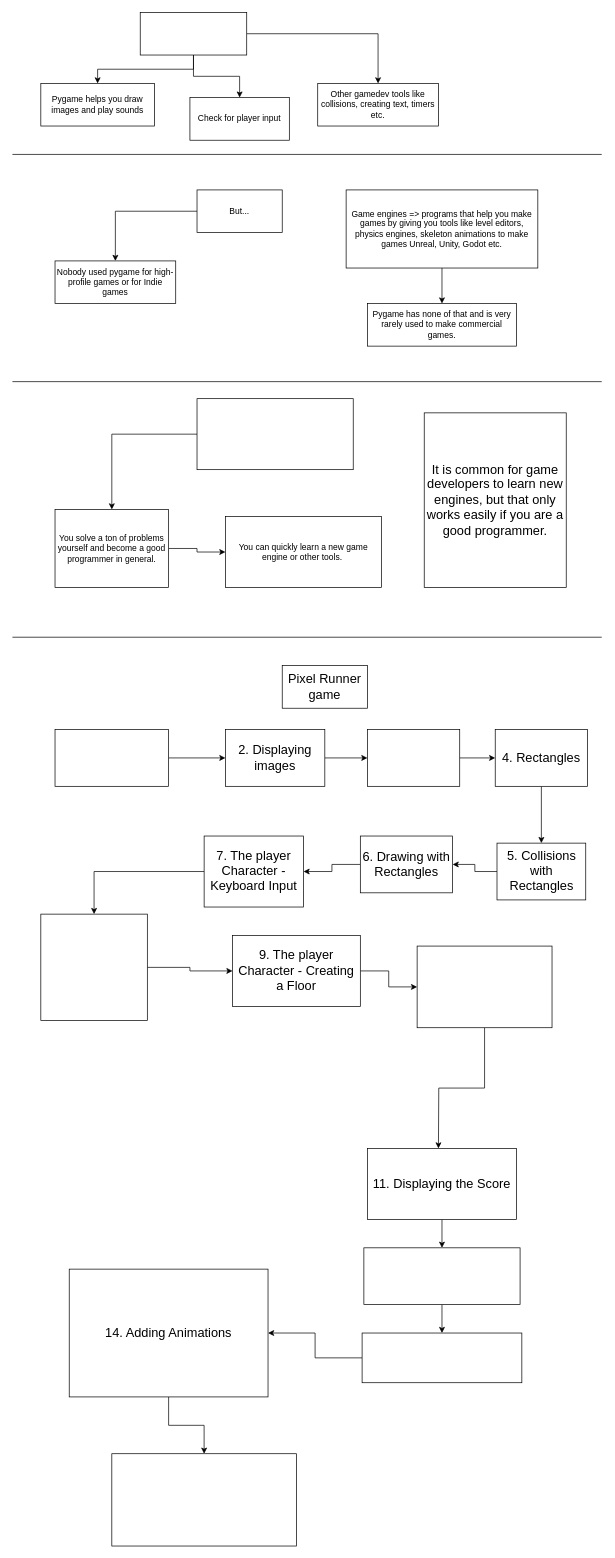
The diagram is 615 pixels wide and 1558 high, and some of its shapes have lost their labels. Each missing label, with the centre of its shape:
"1. Creating blank window" belongs at point 111,757.
"10. Creating Different Game States" belongs at point 484,986.
"12. Transforming Surfaces" belongs at point 441,1276.
"13. Better enemy logic" belongs at point 441,1357.
"15. Adding Music" belongs at point 203,1499.
"3. Basic Animations" belongs at point 413,757.
"8. The player Character - Jumping and Falling" belongs at point 93,967.
"Benefits of starting of software developing by learning Pygame." belongs at point 274,434.
"What does Pygame do?" belongs at point 193,33.
